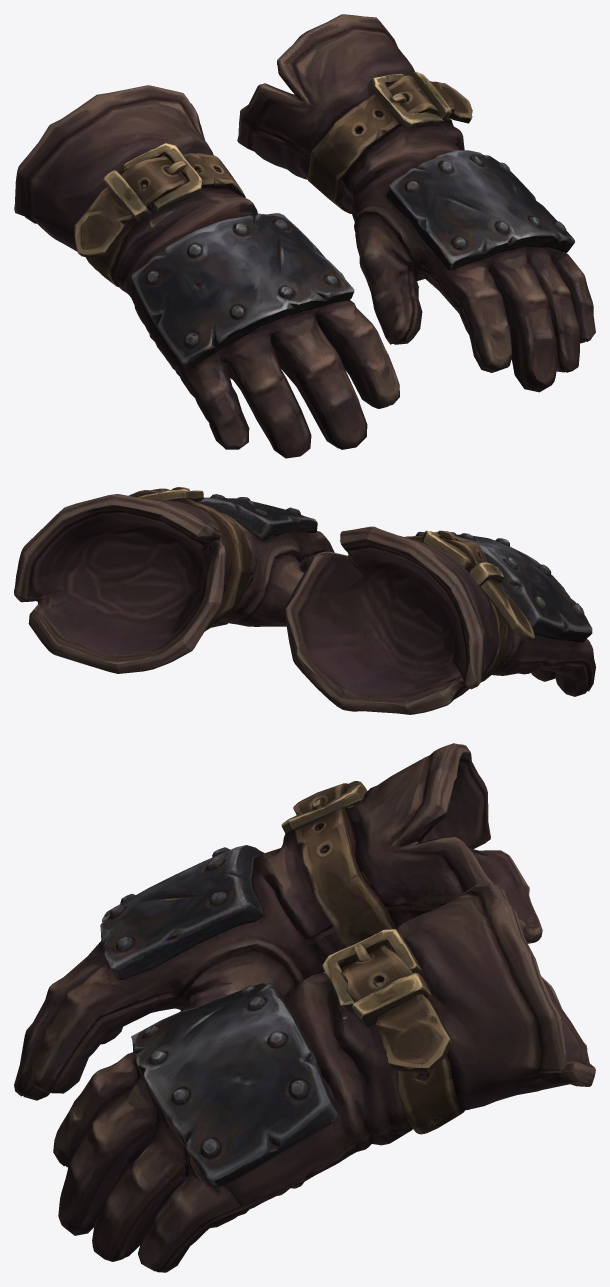
The model's file is gauntlets.glb.
3 renders of one model, top to bottom at view 1: azimuth 30°, elevation 25°; view 2: azimuth 150°, elevation 25°; view 3: azimuth 270°, elevation 25°, orthographic. The views are drawn at different scales.
Visible parts, largest first — view 1: mesh_node; view 2: mesh_node; view 3: mesh_node.
Part boxes in pixels (x1=…): mesh_node: x1=14, y1=14, x2=595, y2=458; mesh_node: x1=14, y1=487, x2=595, y2=714; mesh_node: x1=14, y1=743, x2=595, y2=1272.
Size of the model in its own units: 1.9 by 1.03 by 1.71.
1 material, 1 textured.
